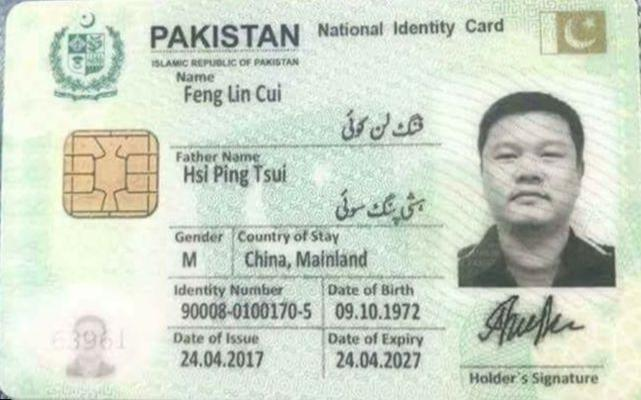fname: (180, 161, 290, 188)
name: (181, 80, 285, 107)
number: (176, 298, 317, 324)
